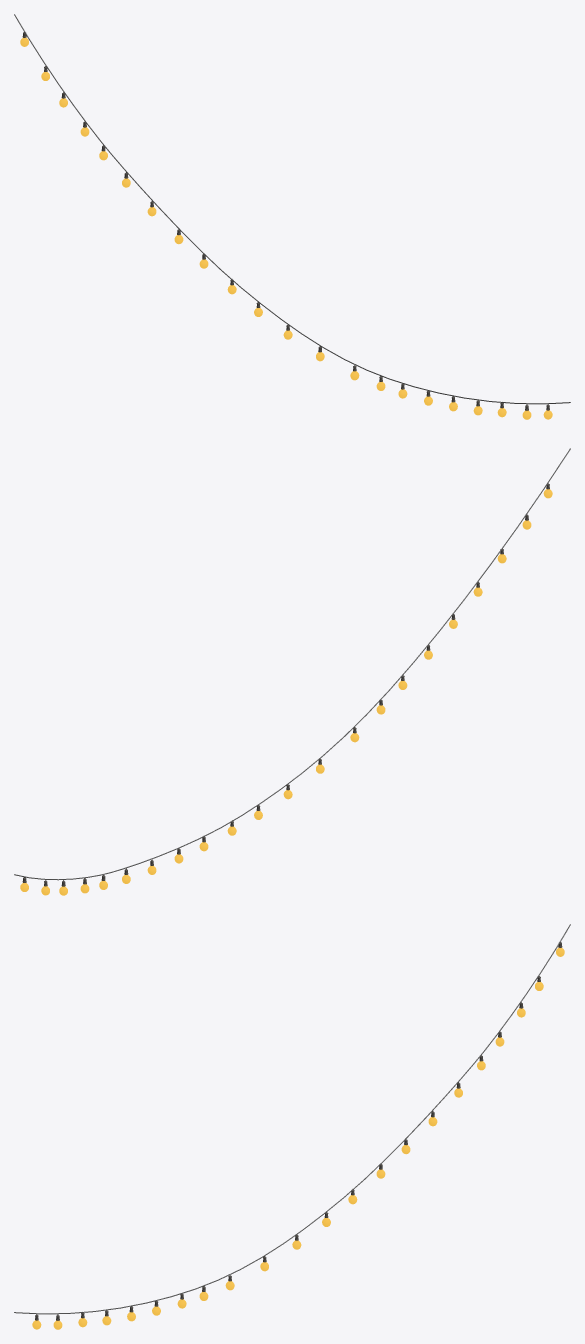
3 renders of one model, top to bottom at view 1: azimuth 30°, elevation 25°; view 2: azimuth 150°, elevation 25°; view 3: azimuth 330°, elevation 25°, orthographic.
Visible parts, largest first — view 1: Obj3d66-4680769-1697-340.008; view 2: Obj3d66-4680769-1697-340.008; view 3: Obj3d66-4680769-1697-340.008.
Boxes of the visible parts, x1,y1,x2,y2 form: Obj3d66-4680769-1697-340.008: (14,14,570,419); Obj3d66-4680769-1697-340.008: (14,448,570,895); Obj3d66-4680769-1697-340.008: (14,924,570,1329).
Size of the model in its own units: 3.28 by 58.54 by 410.
